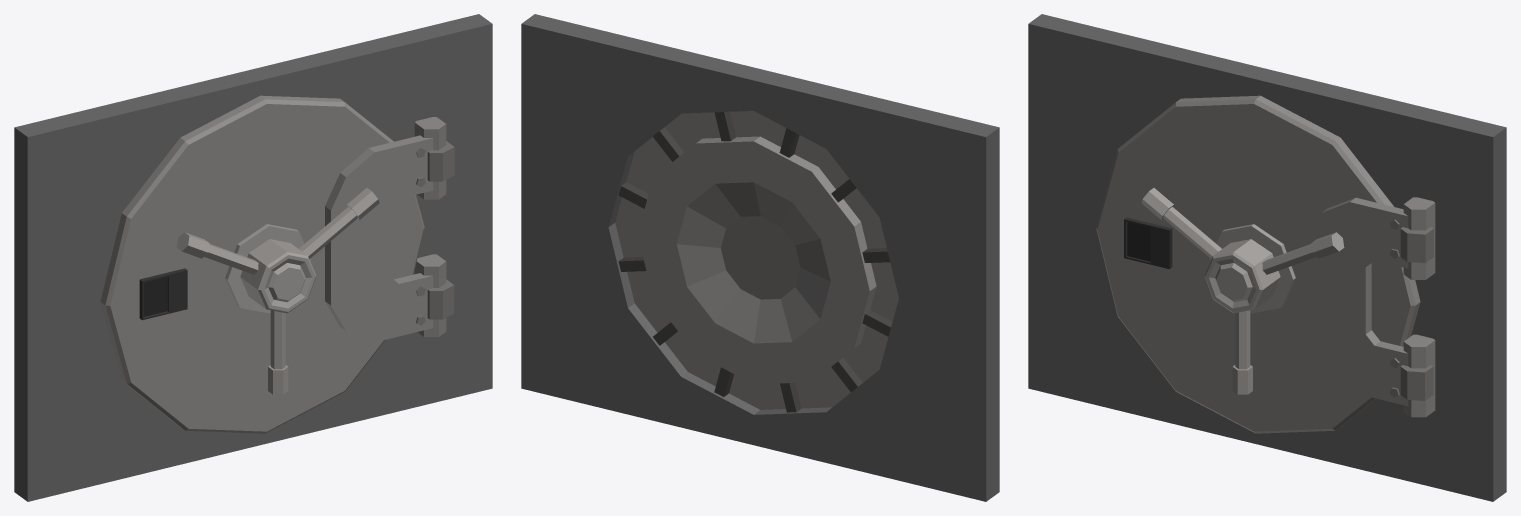
The model's file is SM_Props_Interior_Generic_Bank_Locker.fbx.
3 views of the same model, side by side, from view 1: azimuth 30°, elevation 25°; view 2: azimuth 150°, elevation 25°; view 3: azimuth 330°, elevation 25° (orthographic).
Parts seen in each view (by area): view 1: SM_Props_Interior_Generic_Bank_Locker, SM_Props_Interior_Generic_Bank_Locker_Door; view 2: SM_Props_Interior_Generic_Bank_Locker, SM_Props_Interior_Generic_Bank_Locker_Door; view 3: SM_Props_Interior_Generic_Bank_Locker, SM_Props_Interior_Generic_Bank_Locker_Door.
Part boxes in pixels (left/top/right/bottom): SM_Props_Interior_Generic_Bank_Locker: left=14, top=14, right=492, bottom=501; SM_Props_Interior_Generic_Bank_Locker_Door: left=100, top=95, right=454, bottom=433; SM_Props_Interior_Generic_Bank_Locker: left=521, top=14, right=999, bottom=501; SM_Props_Interior_Generic_Bank_Locker_Door: left=615, top=111, right=898, bottom=412; SM_Props_Interior_Generic_Bank_Locker: left=1028, top=14, right=1506, bottom=501; SM_Props_Interior_Generic_Bank_Locker_Door: left=1096, top=95, right=1433, bottom=433.
Size of the model in its own units: 400 by 300 by 63.
